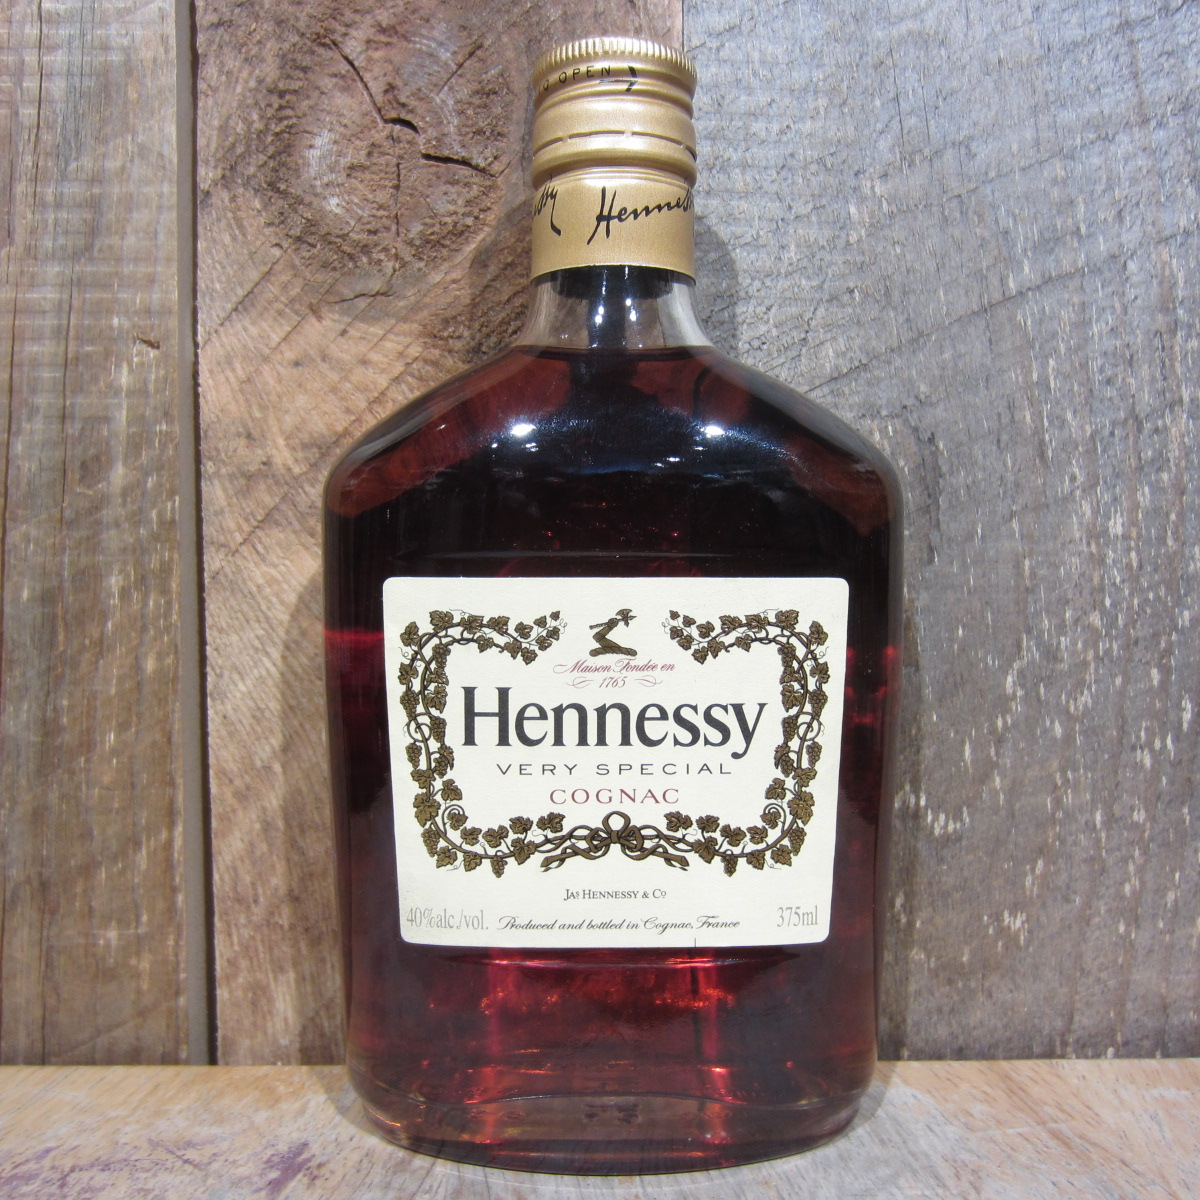Hennessy: (295, 21, 941, 1187)
